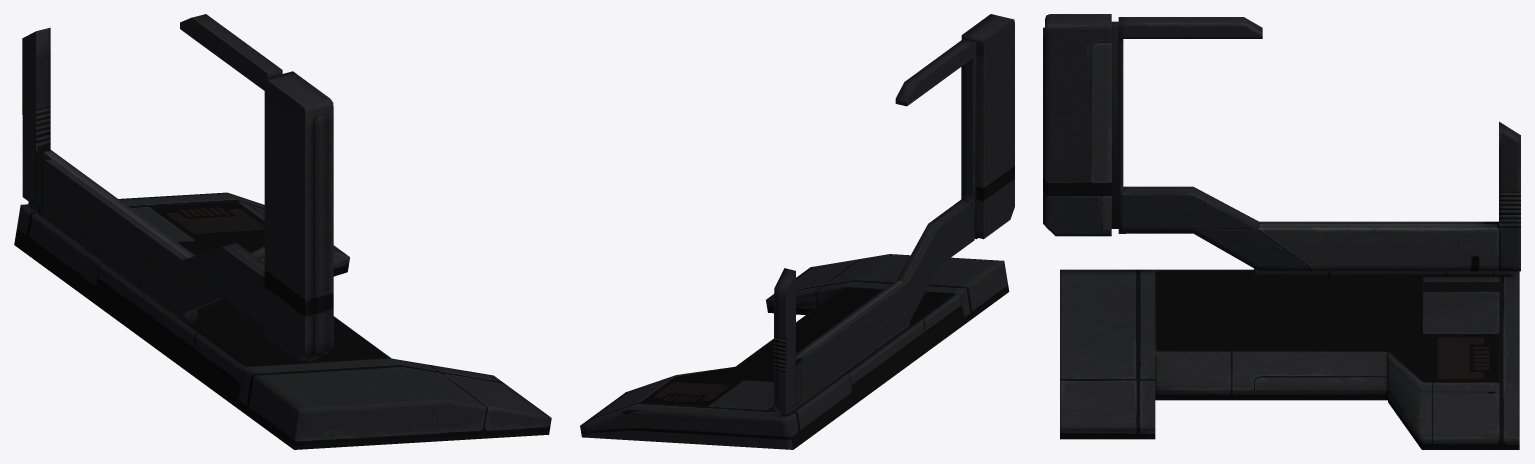
File: GUI_Terminal01_Static.FBX
3 views of the same model, side by side, from view 1: azimuth 30°, elevation 25°; view 2: azimuth 150°, elevation 25°; view 3: azimuth 270°, elevation 25° (orthographic). The views are drawn at different scales.
Parts seen in each view (by area): view 1: GUI_Terminal01_Static; view 2: GUI_Terminal01_Static; view 3: GUI_Terminal01_Static.
Part boxes in pixels (bbox=[...]): GUI_Terminal01_Static: bbox=[14, 14, 551, 449]; GUI_Terminal01_Static: bbox=[580, 14, 1014, 449]; GUI_Terminal01_Static: bbox=[1043, 14, 1520, 449].
Size of the model in its own units: 2.46 by 3.39 by 4.48.
